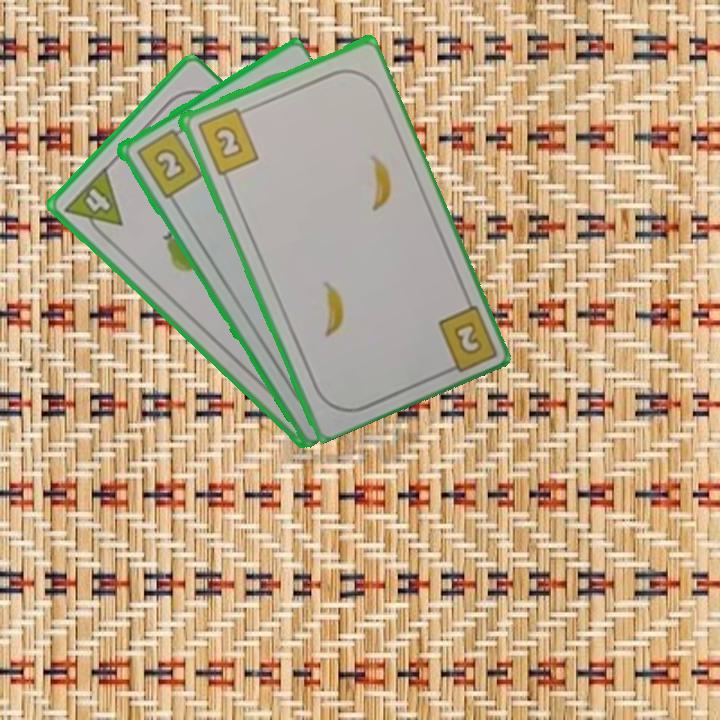2b: (132, 123, 205, 201), (193, 103, 261, 178), (449, 318, 485, 358)
4p: (60, 163, 126, 244)
